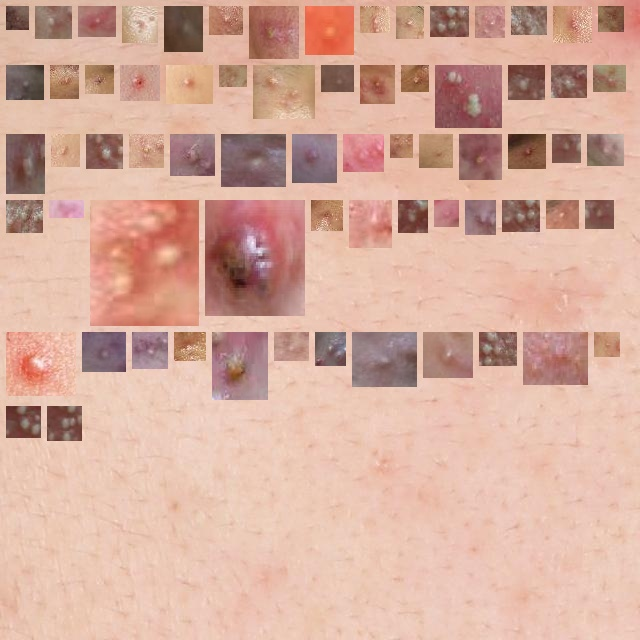pustule: (98, 208, 191, 318), (213, 208, 297, 308), (443, 73, 494, 128), (14, 340, 68, 388), (220, 340, 260, 392), (360, 340, 409, 379), (229, 142, 278, 179), (531, 340, 580, 377), (261, 73, 307, 111), (257, 14, 291, 51), (313, 14, 346, 47), (431, 340, 465, 370), (14, 142, 37, 186), (300, 142, 329, 175), (357, 208, 384, 240), (467, 142, 494, 172), (178, 142, 207, 168), (174, 73, 205, 96), (172, 14, 195, 44), (90, 340, 118, 364), (351, 142, 376, 164), (561, 14, 584, 35), (128, 73, 152, 93), (368, 73, 387, 96), (130, 14, 150, 35), (140, 340, 160, 361), (14, 73, 36, 92), (516, 142, 538, 161), (516, 73, 537, 92), (94, 142, 115, 161), (487, 340, 509, 358), (55, 414, 74, 433), (43, 14, 64, 31), (14, 208, 35, 225), (510, 208, 532, 224), (438, 14, 461, 29), (137, 142, 156, 160), (559, 73, 579, 90), (595, 142, 616, 158), (86, 14, 108, 29), (427, 142, 445, 160), (14, 414, 33, 430), (473, 208, 488, 227), (323, 340, 338, 358), (519, 14, 539, 27), (282, 340, 301, 353), (319, 208, 335, 223), (406, 208, 420, 225), (217, 14, 235, 27), (58, 73, 71, 91), (483, 14, 497, 30), (59, 142, 72, 159), (554, 208, 571, 221), (182, 340, 198, 353), (404, 14, 416, 31), (329, 73, 346, 84), (601, 73, 618, 84), (93, 73, 106, 86), (560, 142, 573, 155), (593, 208, 606, 221), (368, 14, 382, 25), (409, 73, 421, 84), (227, 73, 239, 82), (606, 14, 616, 24), (442, 208, 451, 219), (602, 340, 612, 349), (14, 14, 21, 22), (398, 142, 405, 150)
